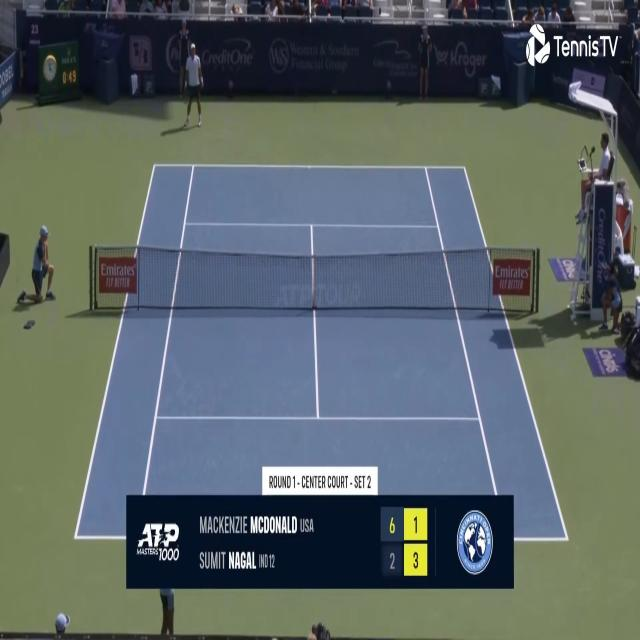tennis-player: (180, 40, 205, 132)
